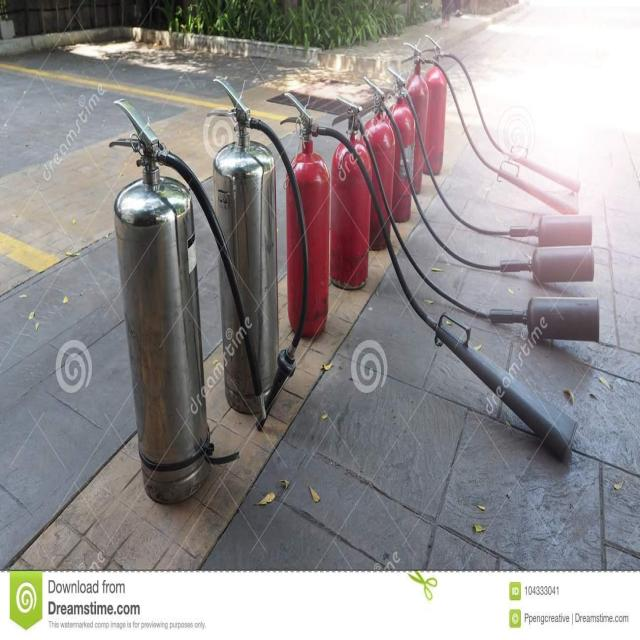fire_extinguisher: (279, 90, 582, 475), (328, 89, 602, 345), (102, 92, 268, 506), (354, 77, 596, 283), (203, 70, 311, 434), (383, 65, 594, 248), (399, 40, 587, 221), (410, 32, 585, 193)
